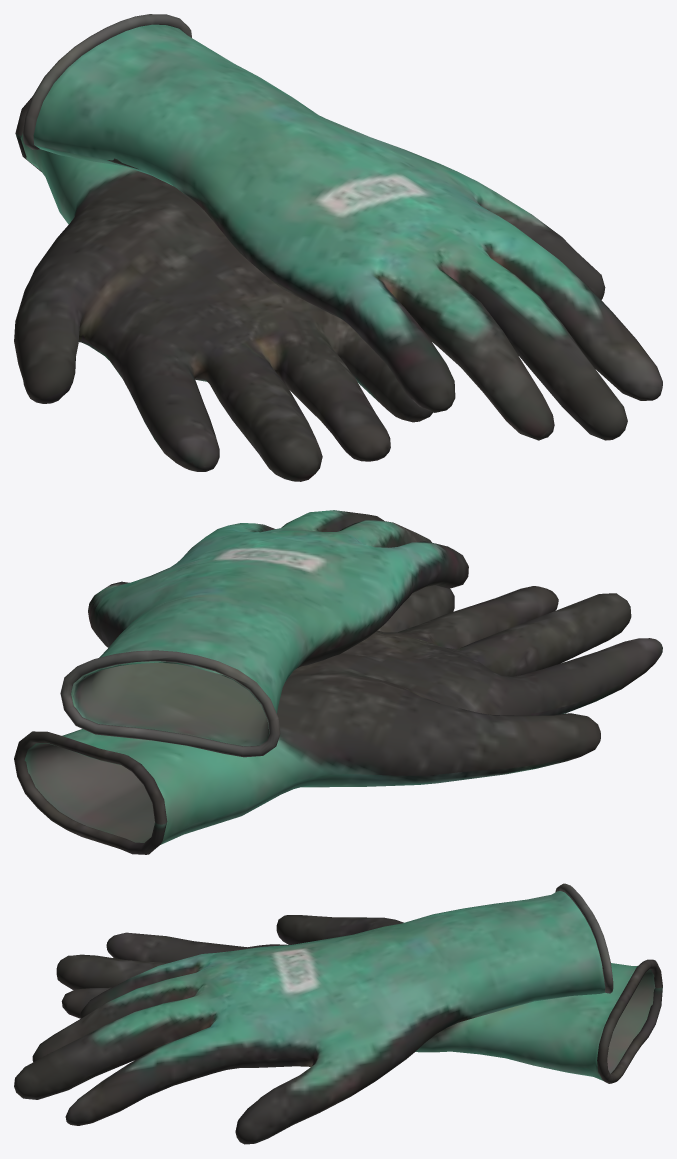
File: garden_gloves_01.glb
The picture shows the model from 3 angles, top to bottom: view 1: azimuth 30°, elevation 25°; view 2: azimuth 150°, elevation 25°; view 3: azimuth 270°, elevation 25°; orthographic projection. The views are drawn at different scales.
Visible parts, largest first — view 1: garden_gloves_01; view 2: garden_gloves_01; view 3: garden_gloves_01.
Boxes of the visible parts, left/top/right/bottom form: garden_gloves_01: left=14, top=14, right=662, bottom=481; garden_gloves_01: left=14, top=510, right=662, bottom=854; garden_gloves_01: left=14, top=883, right=662, bottom=1144.
Size of the model in its own units: 0.2266 by 0.076 by 0.299.
Materials: 1 (1 with a texture image).
